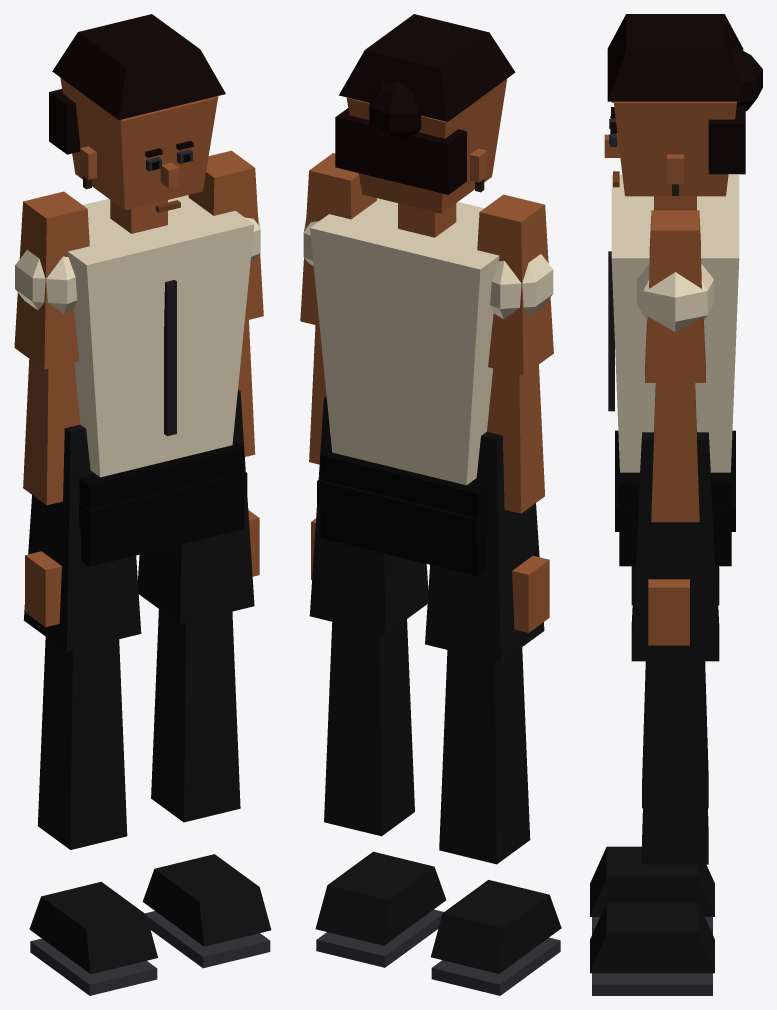
The model's file is npc_woman_standing_v33.glb.
The picture shows the model from 3 angles, left to right: view 1: azimuth 30°, elevation 25°; view 2: azimuth 150°, elevation 25°; view 3: azimuth 270°, elevation 25°; orthographic projection.
Parts seen in each view (by area): view 1: torso, head, lowerLegL, lowerLegR, hips, upperLegR, footR, footL, upperArmR, upperLegL, foreArmR, upperArmL (+1 smaller); view 2: torso, head, lowerLegL, lowerLegR, hips, upperLegR, footR, footL, upperArmR, upperLegL, foreArmR, upperArmL (+1 smaller); view 3: head, torso, lowerLegL, upperLegL, footL, upperArmL, foreArmL, footR, hips, lowerLegR.
Boxes of the visible parts, x1,y1,x2,y2 form: torso: (68,195,254,477); head: (49,14,225,212); lowerLegL: (151,609,240,822); lowerLegR: (37,637,127,849); hips: (78,440,247,566); upperLegR: (23,424,141,651); footR: (29,881,157,995); footL: (142,854,271,968); upperArmR: (14,191,89,369); upperLegL: (138,389,254,624); foreArmR: (23,359,80,627); upperArmL: (188,150,263,320); torso: (310,198,499,485); head: (335,14,515,213); lowerLegL: (324,619,414,836); lowerLegR: (439,647,530,864); hips: (317,447,488,576); upperLegR: (425,431,544,662); footR: (431,880,561,995); footL: (315,851,446,967); upperArmR: (477,194,553,375); upperLegL: (309,396,428,634); foreArmR: (487,365,549,632); upperArmL: (300,153,376,325); head: (604,14,762,196); torso: (608,175,739,472); lowerLegL: (642,661,708,864); upperLegL: (631,432,719,661); footL: (590,902,714,995); upperArmL: (636,210,714,382); foreArmL: (648,383,699,645); footR: (590,846,714,934); hips: (615,430,735,566); lowerLegR: (642,661,708,808).
Size of the model in its own units: 0.4823 by 1.78 by 0.3032.
